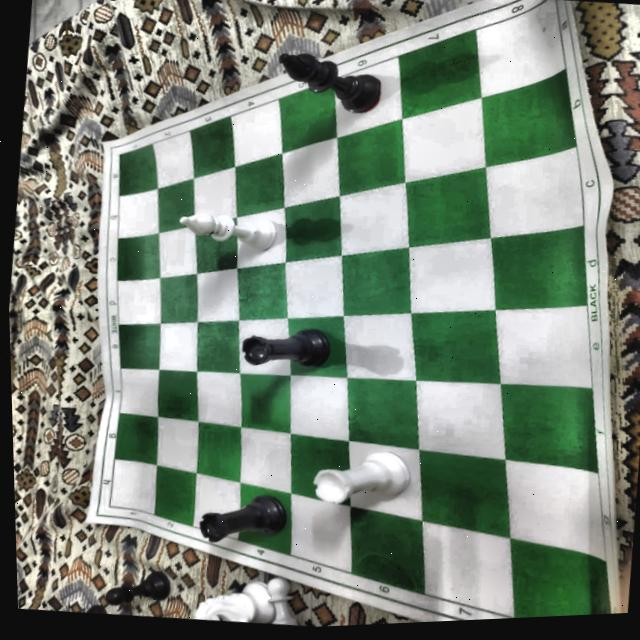BlackBishop: (270, 43, 385, 119)
BlackRook: (196, 483, 291, 548), (239, 319, 335, 372)
WhiteBishop: (174, 204, 278, 255)
WhiteRook: (309, 440, 417, 512)
